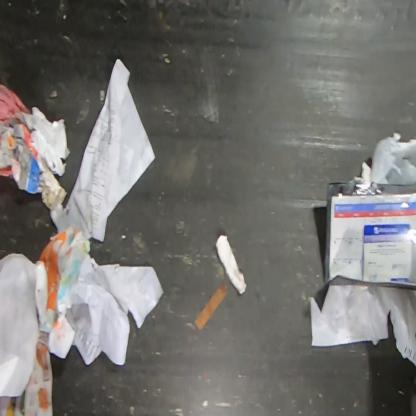soft_plastic: (369, 133, 416, 367), (324, 177, 415, 292), (0, 82, 32, 178)
